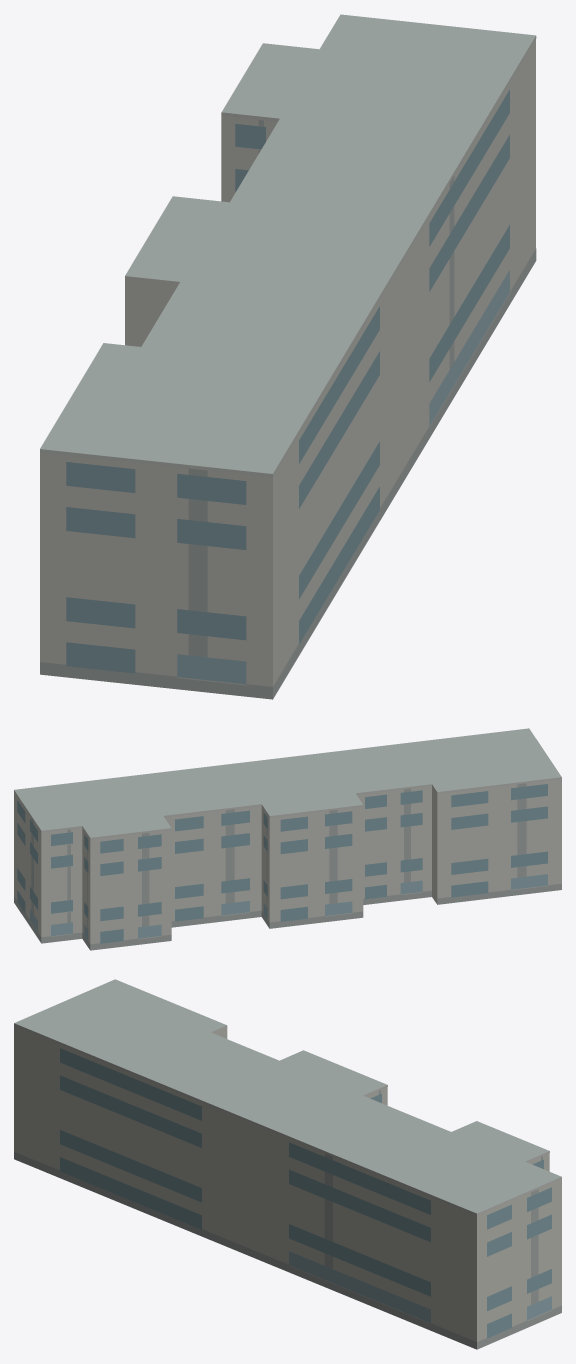
Rendered from residential-77562cb0-5650-45a1-bb0d-1e7e842a566f.glb.
3 views of the same model, one above another, from view 1: azimuth 30°, elevation 25°; view 2: azimuth 150°, elevation 25°; view 3: azimuth 270°, elevation 25° (orthographic). The views are drawn at different scales.
Parts seen in each view (by area): view 1: residential-77562cb0-5650-45a1-bb0d-1e7e842a566f.tmp; view 2: residential-77562cb0-5650-45a1-bb0d-1e7e842a566f.tmp; view 3: residential-77562cb0-5650-45a1-bb0d-1e7e842a566f.tmp.
Part boxes in pixels (x1=…): residential-77562cb0-5650-45a1-bb0d-1e7e842a566f.tmp: x1=40, y1=14, x2=536, y2=699; residential-77562cb0-5650-45a1-bb0d-1e7e842a566f.tmp: x1=14, y1=728, x2=561, y2=950; residential-77562cb0-5650-45a1-bb0d-1e7e842a566f.tmp: x1=14, y1=979, x2=561, y2=1349.
Size of the model in its own units: 56.34 by 15.25 by 55.66.
